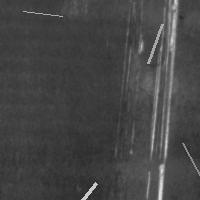scratches: (145, 1, 180, 199), (177, 138, 200, 200), (143, 19, 167, 68), (122, 28, 145, 76), (66, 178, 101, 200), (18, 6, 67, 21)
